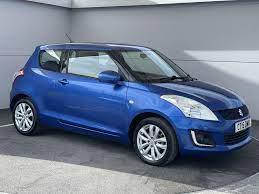Hatchback: (8, 42, 254, 166)
